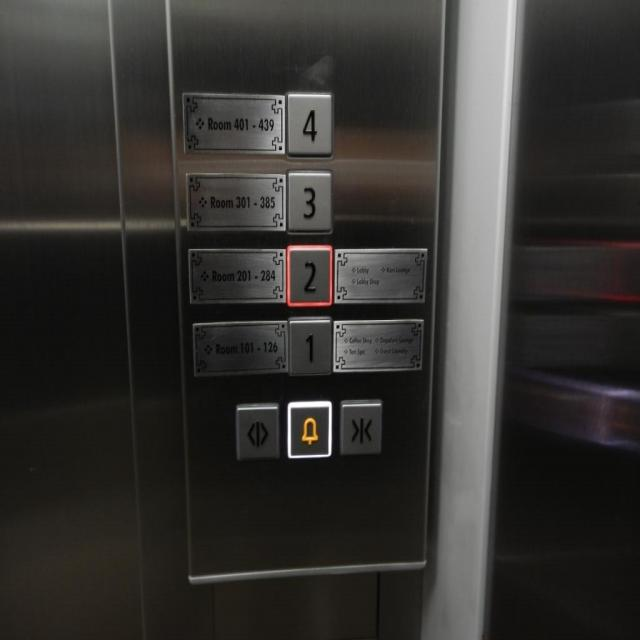1: (284, 312, 334, 378)
2: (284, 239, 332, 309)
3: (284, 164, 335, 238)
4: (284, 87, 336, 161)
alarm: (284, 395, 332, 461)
close: (335, 394, 384, 460)
open: (232, 398, 280, 464)
